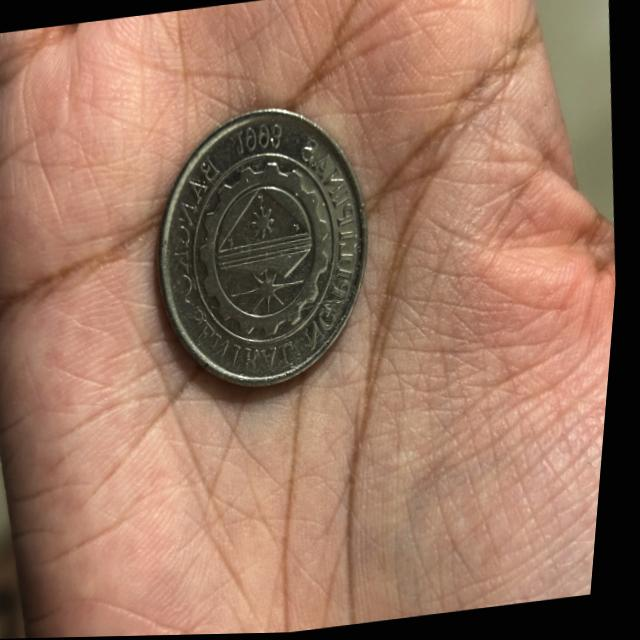1_Old_Back: (170, 135, 363, 364)
